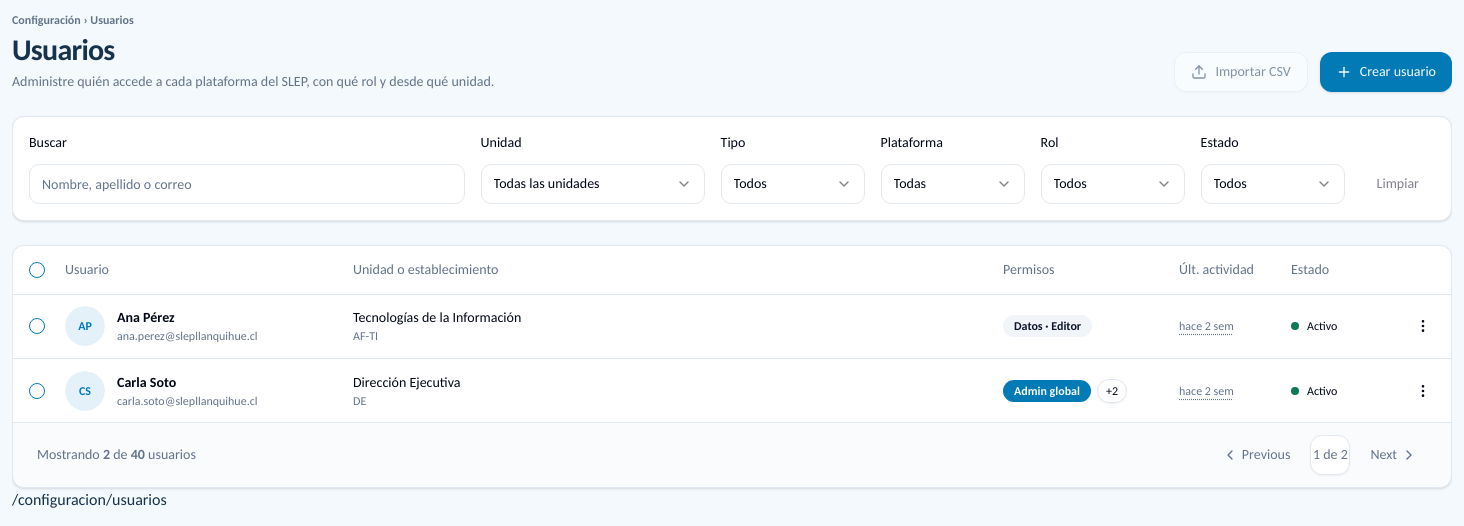
it: FE08: filtros en la URL › FE08-O: con varias páginas muestra la paginación y «Siguiente» avanza ?page=
Expected: the text "Ana Pérez" is shown, [117, 309, 175, 326]
Expected: the text "Mostrando 2 de 40 usuarios" is shown, [37, 445, 196, 465]
Click the link "Next". click: [1394, 455]
box: [1370, 446, 1417, 463]
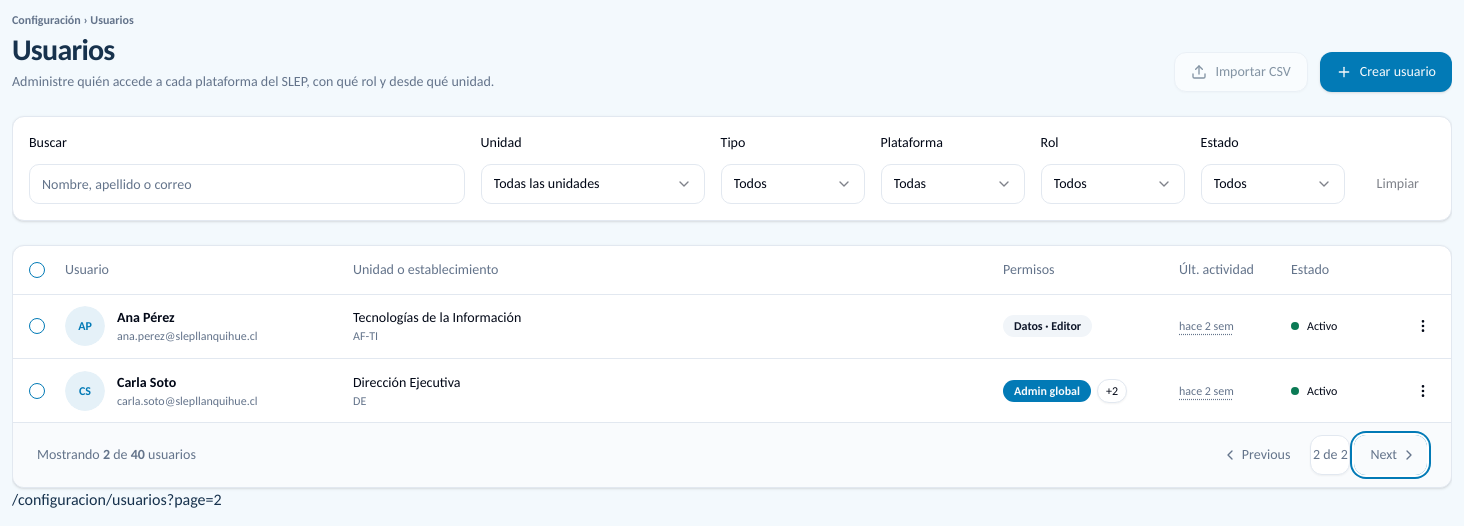
Expected: the text with test id "where" shows "page=2", [12, 490, 222, 509]
